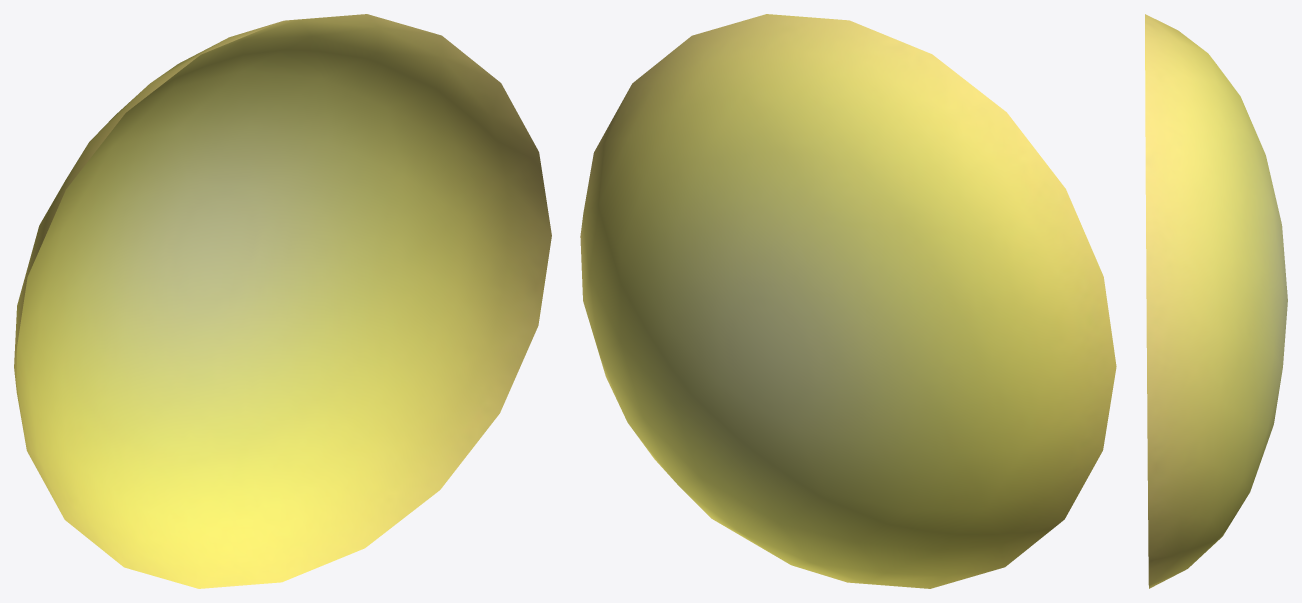
Rendered from sun.obj.
3 renders of one model, left to right at view 1: azimuth 30°, elevation 25°; view 2: azimuth 150°, elevation 25°; view 3: azimuth 270°, elevation 25°, orthographic. The views are drawn at different scales.
Bounding box in the file's own units: 2.08 × 2.08 × 0.5125.
